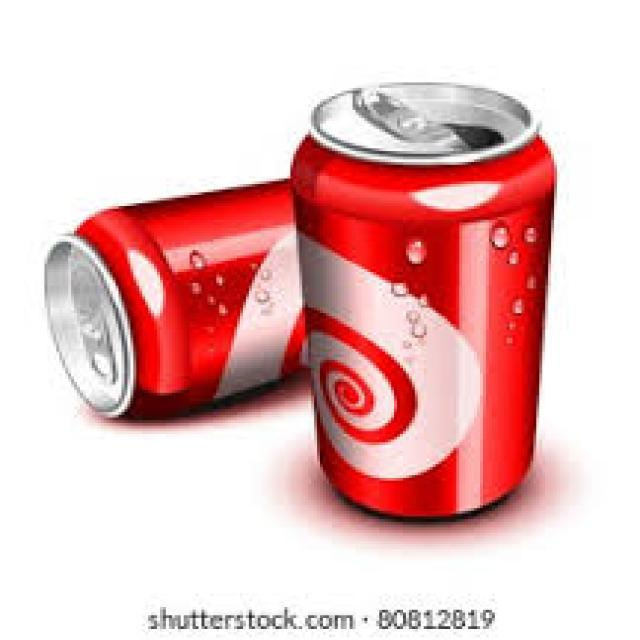Cans: (290, 75, 554, 528), (39, 178, 317, 418)
